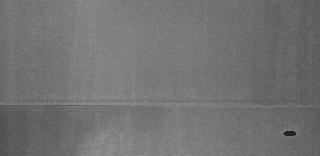punching hole: (280, 131, 298, 139)
welding line: (2, 101, 318, 111)
